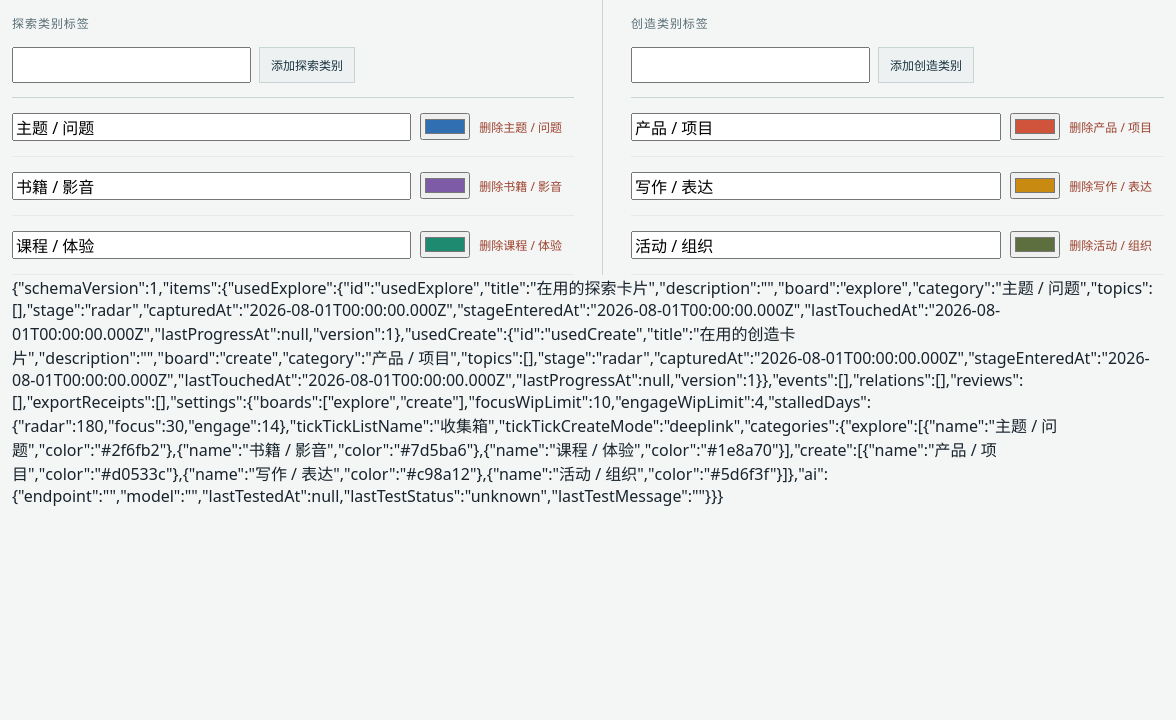
Test: CategoryManager › renames a category and synchronizes its assigned cards
Replace the text in the field named "探索类别名称：主题 / 问题" with "研究问题" at (212, 127), box top-left (12, 113), bottom-right (411, 141)
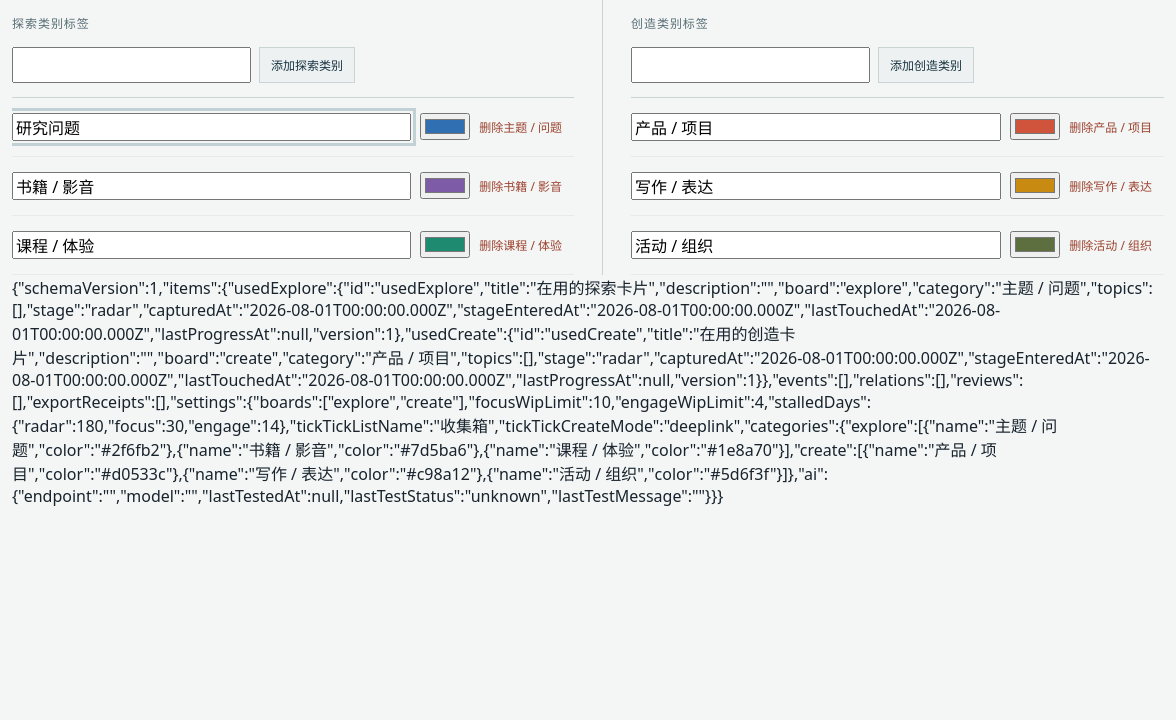
Press Tab
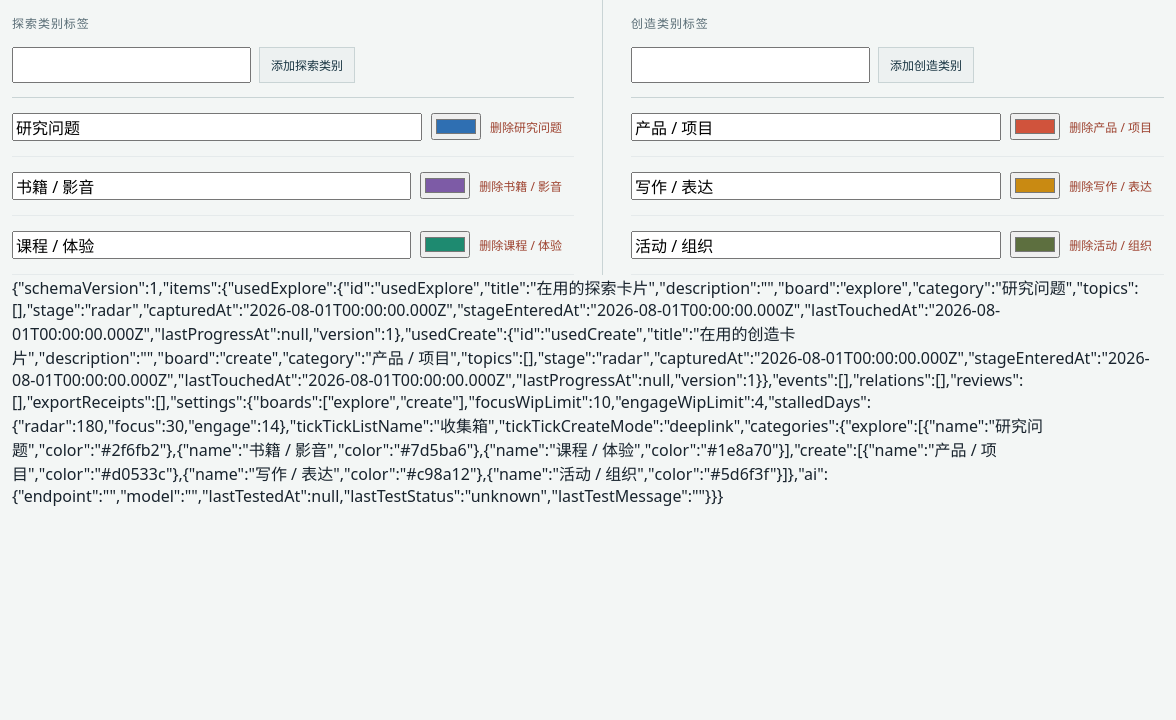
Expected: the field named "探索类别名称：研究问题" holds "研究问题", top-left (12, 113), bottom-right (422, 141)
Expected: the text with test id "workspace" shows "\"category\":\"研究问题\"", top-left (12, 277), bottom-right (1150, 507)
